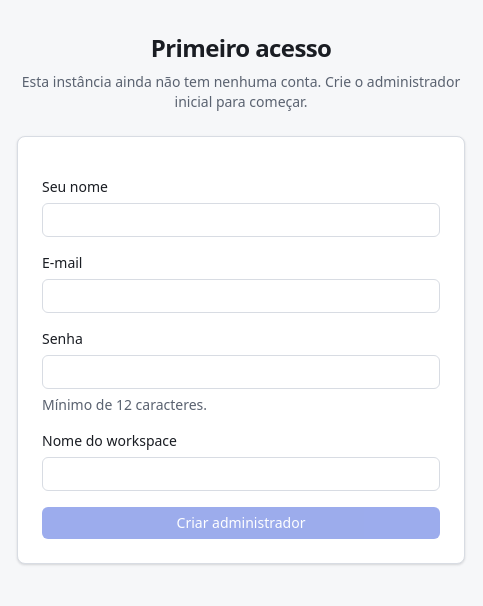
Test: FirstRunPage (BOOT-12..16) › falls back to a generic message when the refused field is unrecognised
Type "Admin" into the field labelled "Seu nome" at coordinates (241, 220), box [42,203,440,237]
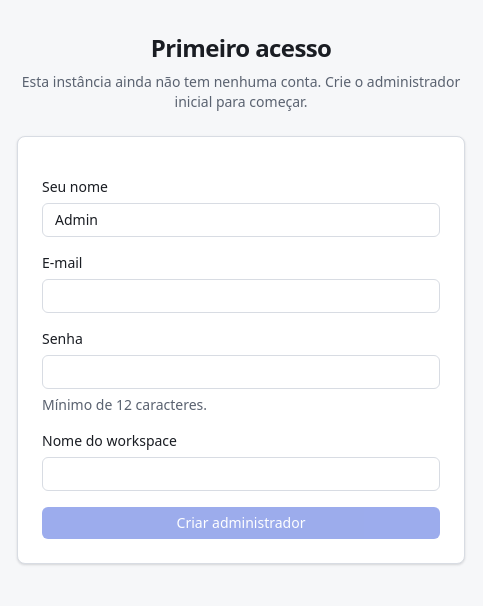
Type "admin@example.com" into the field labelled "E-mail" at coordinates (241, 296), box [42,279,440,313]
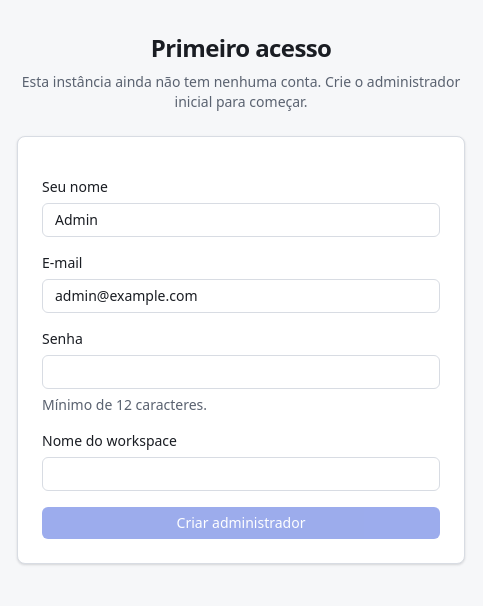
Type "correct horse battery staple" into the password field labelled "Senha" at coordinates (241, 372), box [42,355,440,389]
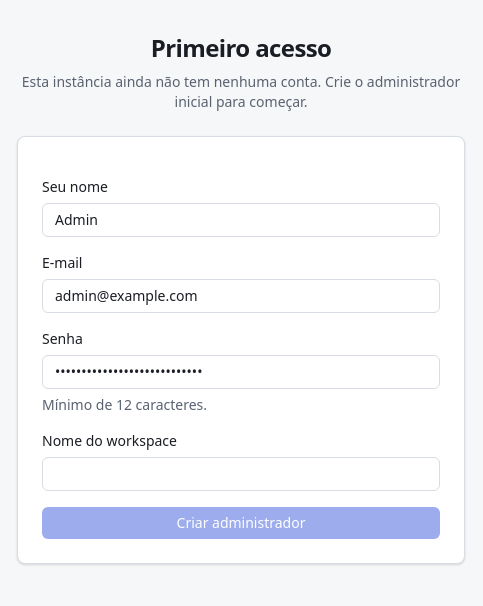
Type "Arquitetura" into the field labelled "Nome do workspace" at coordinates (241, 474), box [42,457,440,491]
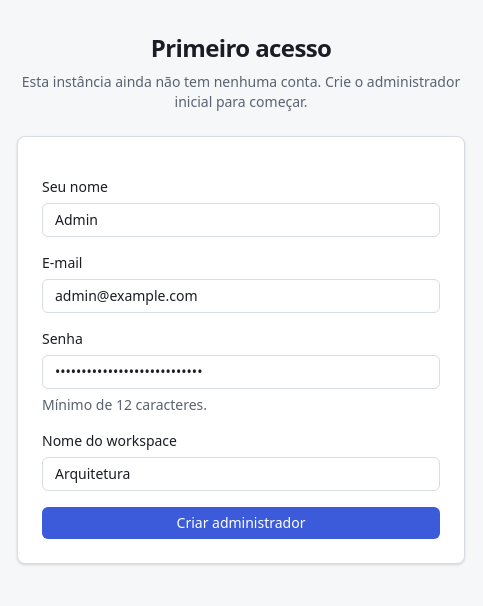
Click the button "Criar administrador" at coordinates (241, 523), box [42,507,440,539]
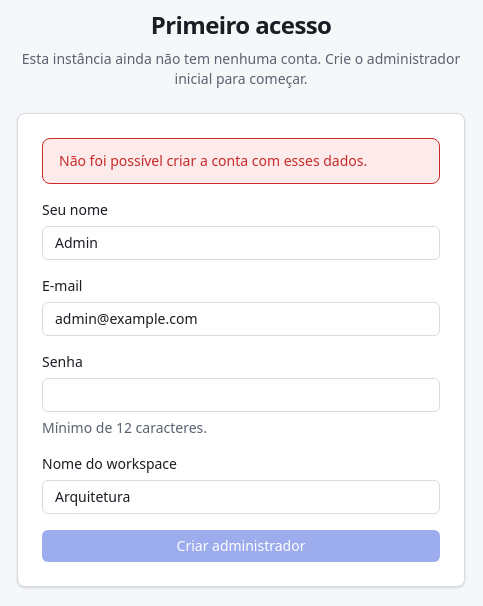
Now the text "Não foi possível criar a conta com esses dados." is shown, box [42,138,440,184]
